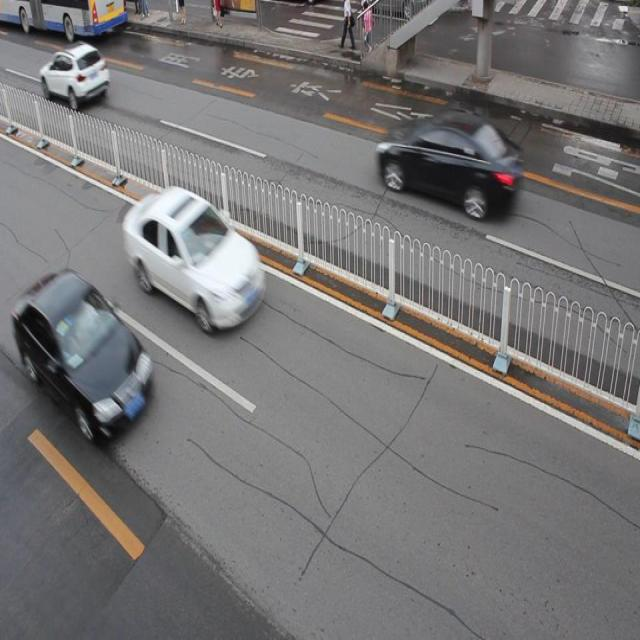car: (14, 267, 151, 436), (123, 184, 266, 330), (376, 110, 518, 218), (40, 42, 110, 109)
